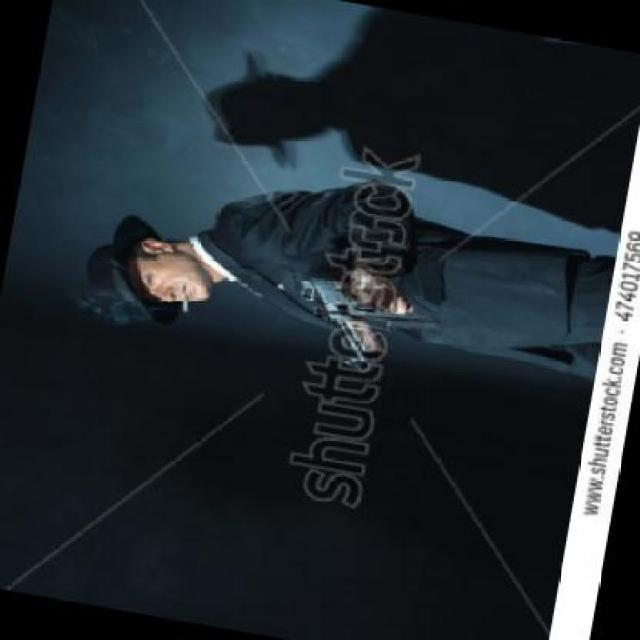smoke: (180, 290, 192, 312)
